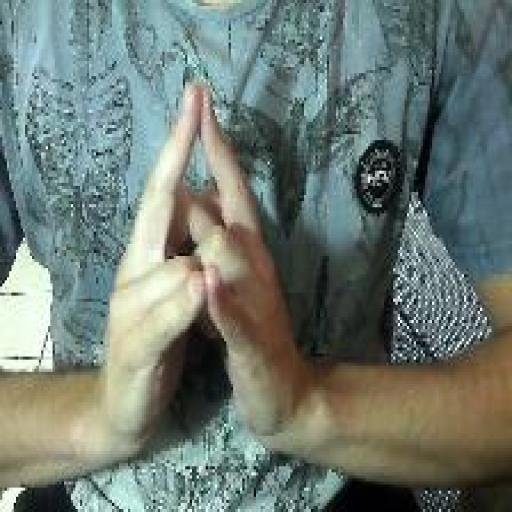Tori -bird-: (100, 79, 300, 454)
